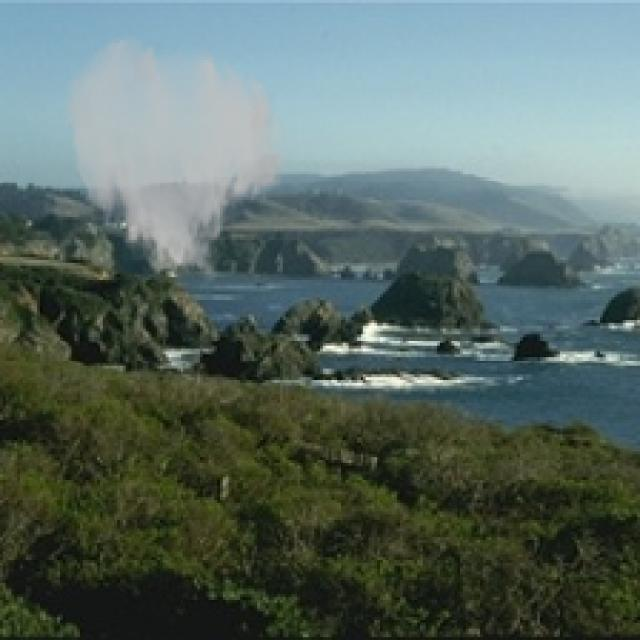smoke: (63, 31, 288, 286)
